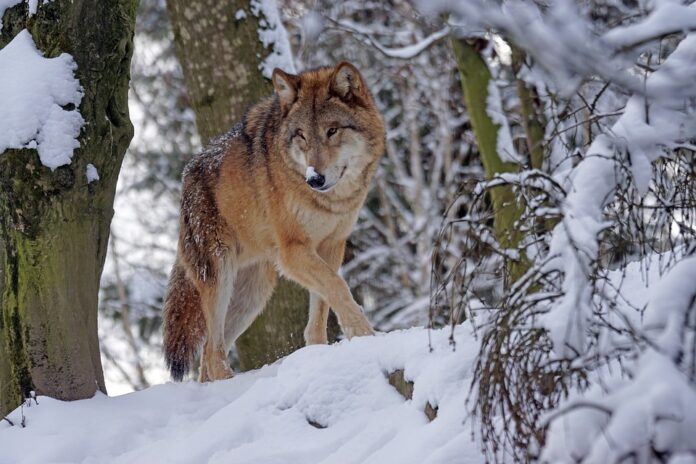Lobo: (161, 68, 407, 369)
